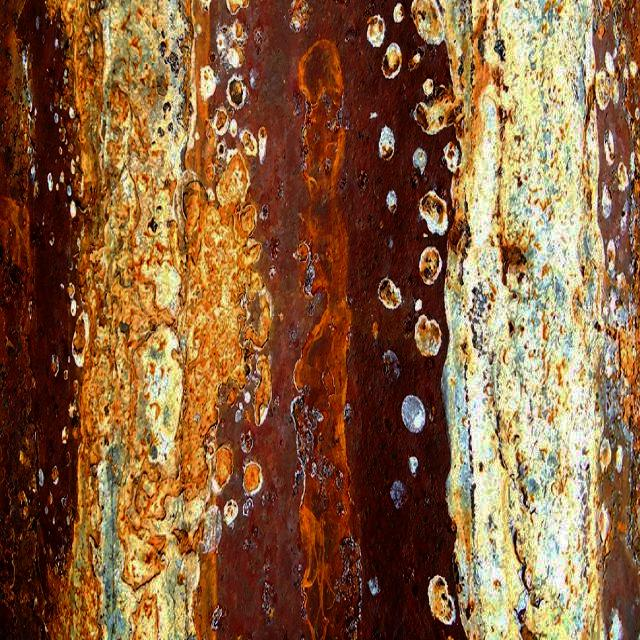Corrosion: (200, 0, 464, 640), (0, 0, 79, 640)
